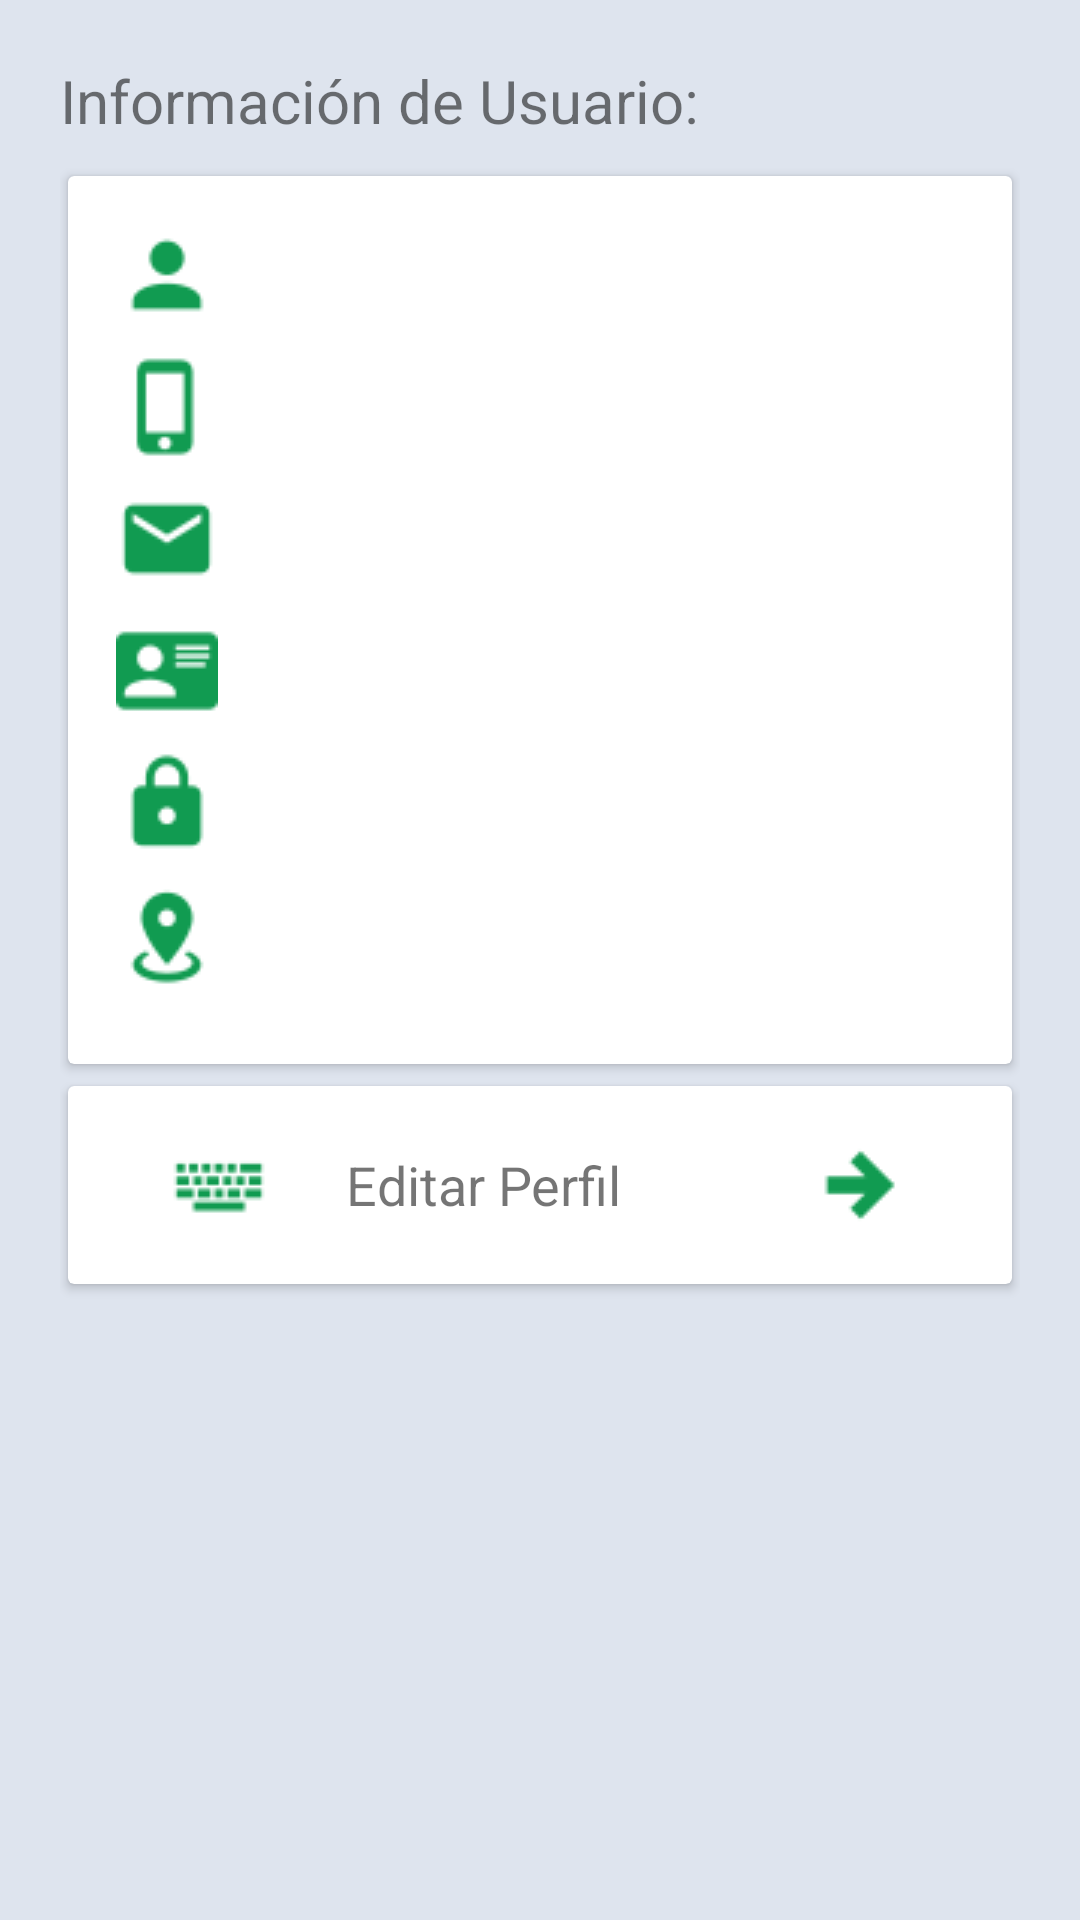

Where to tap for icons on this 1080w x 1920h app screen, as (x,y):
accountgreen: (167,275)
cellphone: (165,407)
direction: (167,937)
email: (167,539)
keyboard: (219,1188)
lockgreen: (167,801)
names: (167,671)
right: (859,1185)
